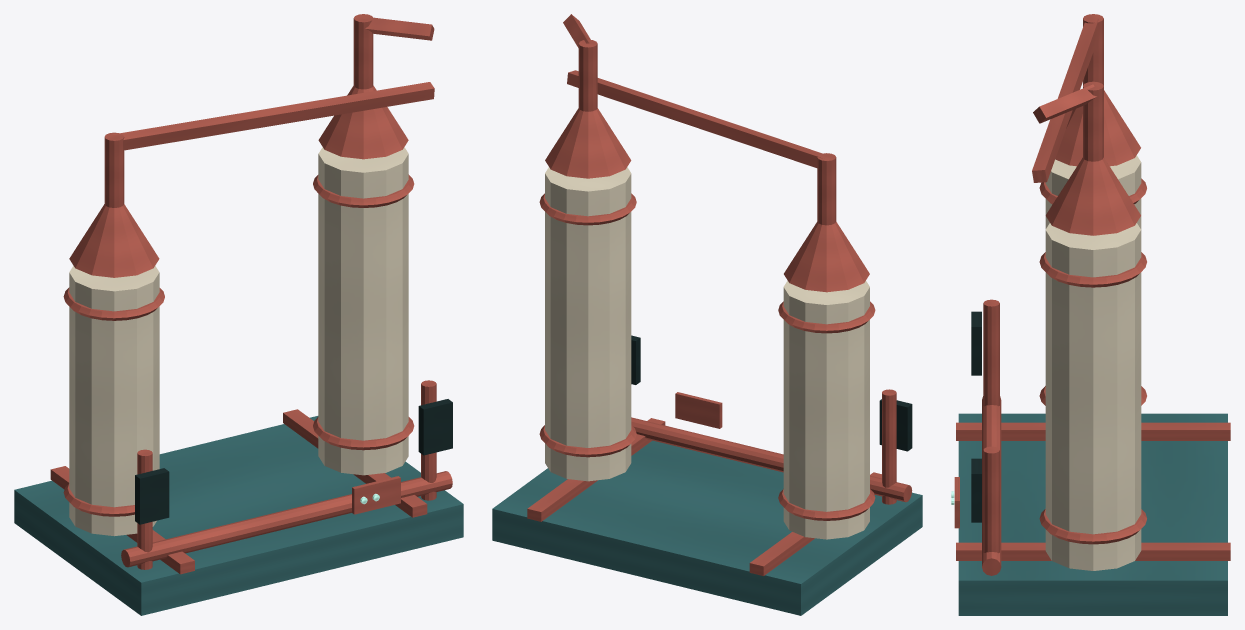
The model's file is atlas100-s034-a01.glb.
The picture shows the model from 3 angles, left to right: view 1: azimuth 30°, elevation 25°; view 2: azimuth 150°, elevation 25°; view 3: azimuth 270°, elevation 25°; orthographic projection. The views are drawn at different scales.
Parts seen in each view (by area): view 1: atlas100-s034-a01:part-000, atlas100-s034-a01:part-010, atlas100-s034-a01:part-003, atlas100-s034-a01:part-009, atlas100-s034-a01:part-021, atlas100-s034-a01:part-007, atlas100-s034-a01:part-014, atlas100-s034-a01:part-020, atlas100-s034-a01:part-018, atlas100-s034-a01:part-008, atlas100-s034-a01:part-002, atlas100-s034-a01:part-015 (+9 smaller); view 2: atlas100-s034-a01:part-000, atlas100-s034-a01:part-010, atlas100-s034-a01:part-003, atlas100-s034-a01:part-009, atlas100-s034-a01:part-014, atlas100-s034-a01:part-007, atlas100-s034-a01:part-021, atlas100-s034-a01:part-002, atlas100-s034-a01:part-017, atlas100-s034-a01:part-008, atlas100-s034-a01:part-015, atlas100-s034-a01:part-022 (+6 smaller); view 3: atlas100-s034-a01:part-000, atlas100-s034-a01:part-010, atlas100-s034-a01:part-014, atlas100-s034-a01:part-002, atlas100-s034-a01:part-001, atlas100-s034-a01:part-009, atlas100-s034-a01:part-007, atlas100-s034-a01:part-017, atlas100-s034-a01:part-019, atlas100-s034-a01:part-021, atlas100-s034-a01:part-003, atlas100-s034-a01:part-015 (+7 smaller).
Boxes of the visible parts, left/top/right/bottom form: atlas100-s034-a01:part-000: left=14, top=416, right=463, bottom=615; atlas100-s034-a01:part-010: left=318, top=147, right=408, bottom=475; atlas100-s034-a01:part-003: left=69, top=266, right=159, bottom=536; atlas100-s034-a01:part-009: left=112, top=82, right=434, bottom=150; atlas100-s034-a01:part-021: left=121, top=471, right=452, bottom=567; atlas100-s034-a01:part-007: left=69, top=204, right=159, bottom=277; atlas100-s034-a01:part-014: left=318, top=85, right=408, bottom=159; atlas100-s034-a01:part-020: left=418, top=399, right=452, bottom=455; atlas100-s034-a01:part-018: left=135, top=468, right=169, bottom=524; atlas100-s034-a01:part-008: left=104, top=132, right=124, bottom=207; atlas100-s034-a01:part-002: left=283, top=409, right=427, bottom=517; atlas100-s034-a01:part-015: left=353, top=14, right=373, bottom=89; atlas100-s034-a01:part-000: left=492, top=440, right=922, bottom=615; atlas100-s034-a01:part-010: left=545, top=167, right=631, bottom=481; atlas100-s034-a01:part-003: left=783, top=280, right=869, bottom=539; atlas100-s034-a01:part-009: left=567, top=70, right=823, bottom=168; atlas100-s034-a01:part-014: left=545, top=108, right=631, bottom=178; atlas100-s034-a01:part-007: left=784, top=221, right=869, bottom=292; atlas100-s034-a01:part-021: left=631, top=417, right=912, bottom=502; atlas100-s034-a01:part-002: left=527, top=418, right=665, bottom=521; atlas100-s034-a01:part-017: left=882, top=389, right=896, bottom=504; atlas100-s034-a01:part-008: left=817, top=153, right=836, bottom=225; atlas100-s034-a01:part-015: left=578, top=39, right=597, bottom=111; atlas100-s034-a01:part-022: left=675, top=392, right=722, bottom=428; atlas100-s034-a01:part-000: left=958, top=413, right=1227, bottom=615; atlas100-s034-a01:part-010: left=1045, top=223, right=1141, bottom=570; atlas100-s034-a01:part-014: left=1045, top=157, right=1140, bottom=235; atlas100-s034-a01:part-002: left=956, top=542, right=1230, bottom=560; atlas100-s034-a01:part-001: left=956, top=422, right=1230, bottom=440; atlas100-s034-a01:part-009: left=1032, top=18, right=1099, bottom=182; atlas100-s034-a01:part-007: left=1055, top=90, right=1140, bottom=166; atlas100-s034-a01:part-017: left=983, top=299, right=999, bottom=406; atlas100-s034-a01:part-019: left=983, top=446, right=999, bottom=553; atlas100-s034-a01:part-021: left=982, top=396, right=1001, bottom=575; atlas100-s034-a01:part-003: left=1045, top=155, right=1141, bottom=229; atlas100-s034-a01:part-015: left=1083, top=81, right=1103, bottom=161.
Bounding box in the file's own units: 2.8 × 3.78 × 1.87.
5 materials, 5 textured.
